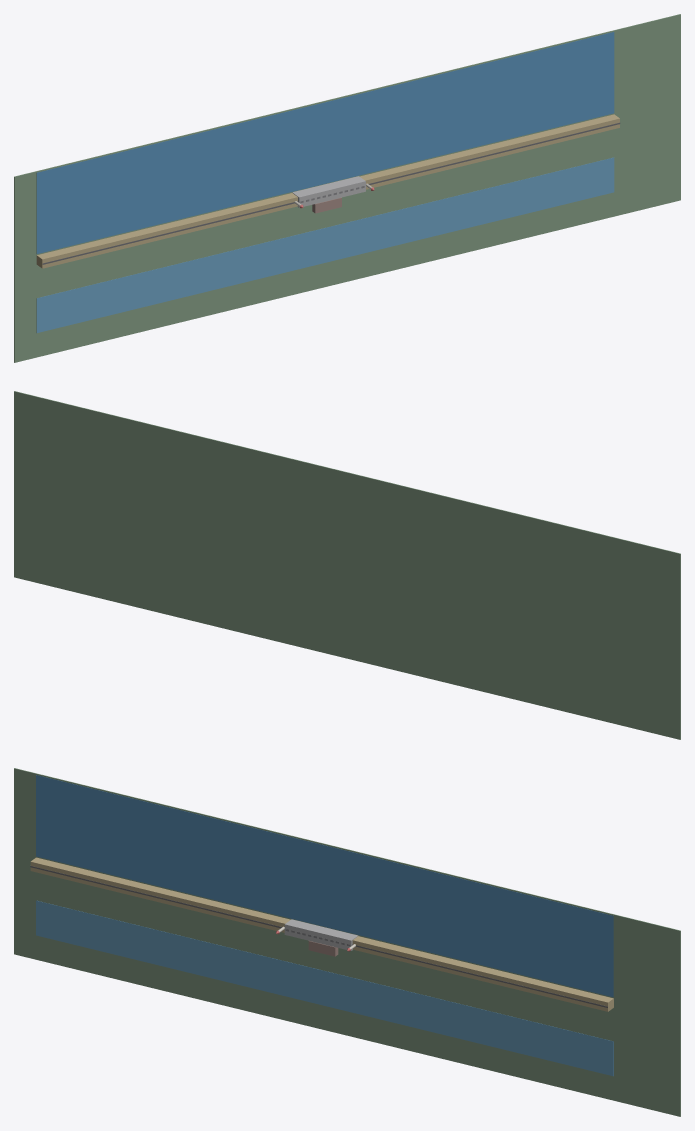
Rendered from hirakud_dam_schematic.glb.
3 views of the same model, one above another, from view 1: azimuth 30°, elevation 25°; view 2: azimuth 150°, elevation 25°; view 3: azimuth 330°, elevation 25° (orthographic).
Parts seen in each view (by area): view 1: geometry_0; view 2: geometry_0; view 3: geometry_0.
Part boxes in pixels (left/top/right/bottom): geometry_0: left=14, top=14, right=680, bottom=362; geometry_0: left=14, top=391, right=680, bottom=739; geometry_0: left=14, top=768, right=680, bottom=1116.
Size of the model in its own units: 3000 by 800 by 108.
